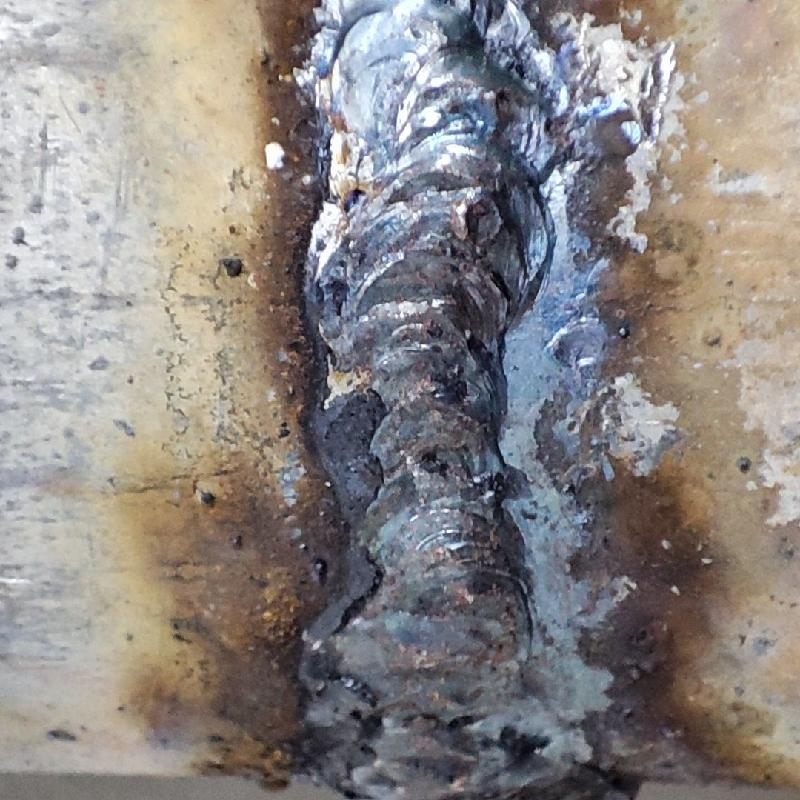Surface_pores: (410, 435, 472, 490)
